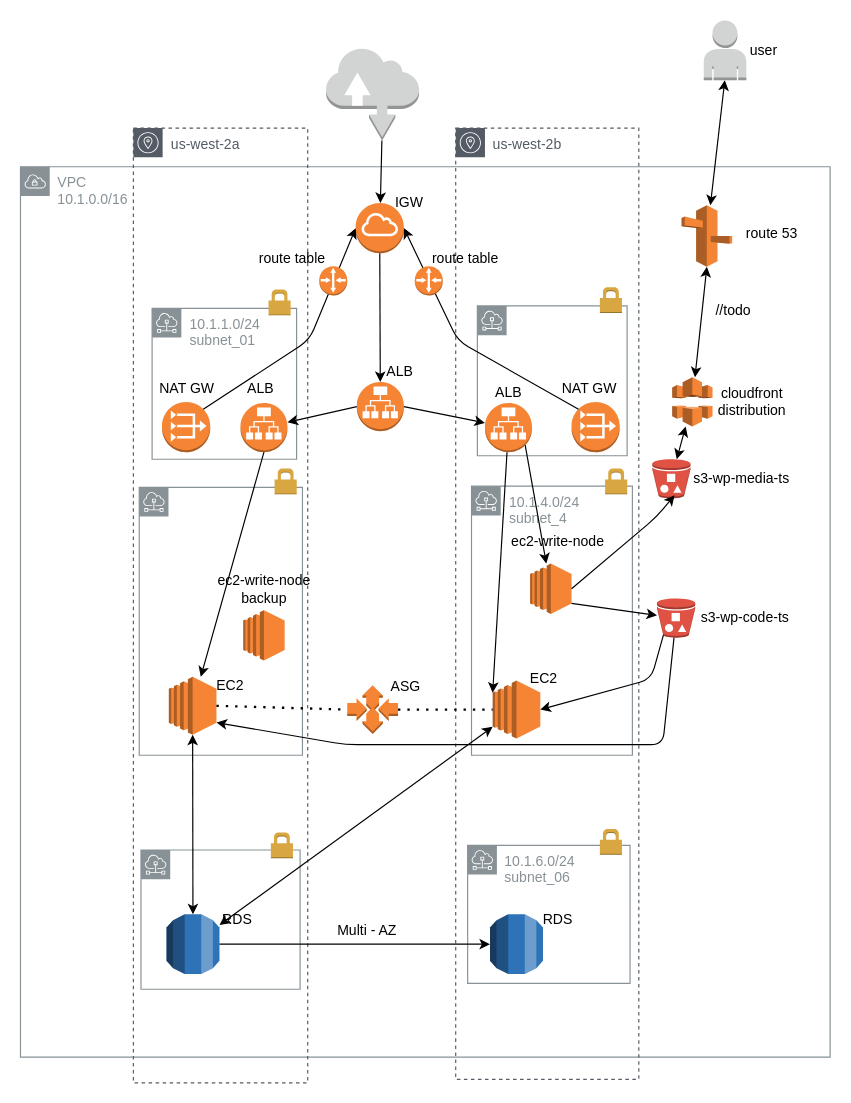
Some shapes in this 851 by 1103 pixel diagram are drawn without their labels. Here are the shapes that lost their labels. From the top down, the box of each, then its label:
(476, 305, 627, 456): 10.1.2.0/24 subnet_02
(138, 486, 302, 755): 10.1.3.0/24 subnet_03
(140, 849, 300, 989): 10.1.5.0/24 subnet_05
